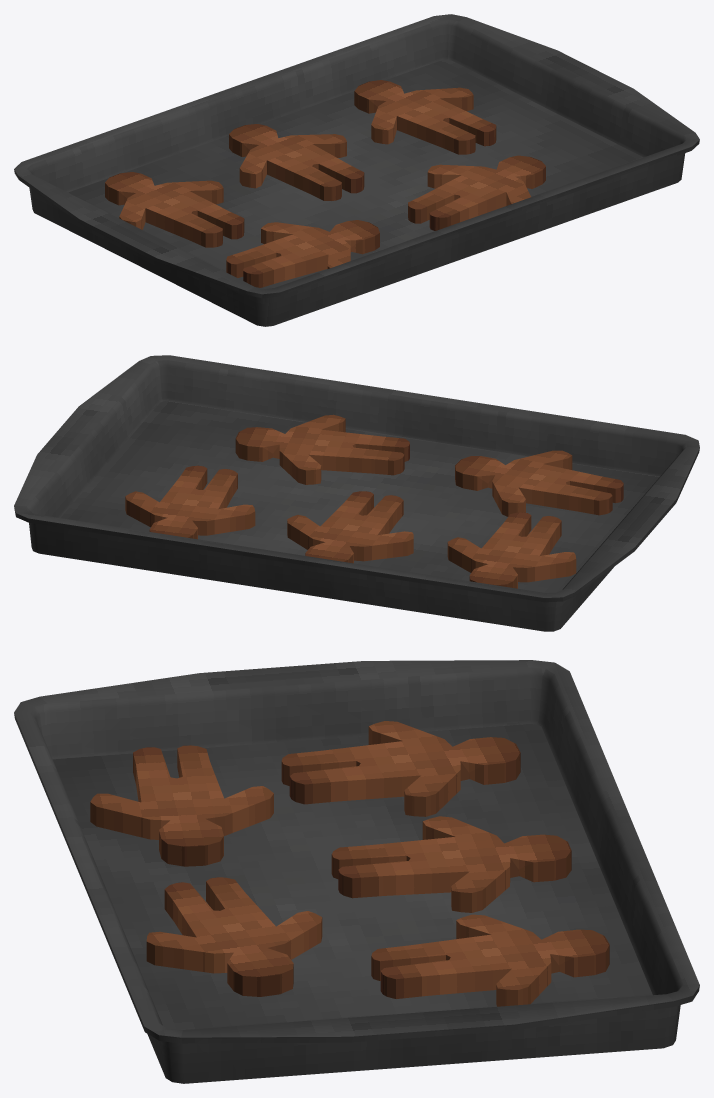
The model's file is BakingTrayGingerbreadMan.fbx.
The picture shows the model from 3 angles, top to bottom: view 1: azimuth 30°, elevation 25°; view 2: azimuth 150°, elevation 25°; view 3: azimuth 270°, elevation 25°; orthographic projection. The views are drawn at different scales.
Visible parts, largest first — view 1: HotDog; view 2: HotDog; view 3: HotDog.
Part boxes in pixels (box(x1,y1,x2,y2)): HotDog: box(14, 14, 699, 326); HotDog: box(14, 355, 699, 631); HotDog: box(14, 660, 699, 1083).
Size of the model in its own units: 105 by 7.31 by 80.46.
